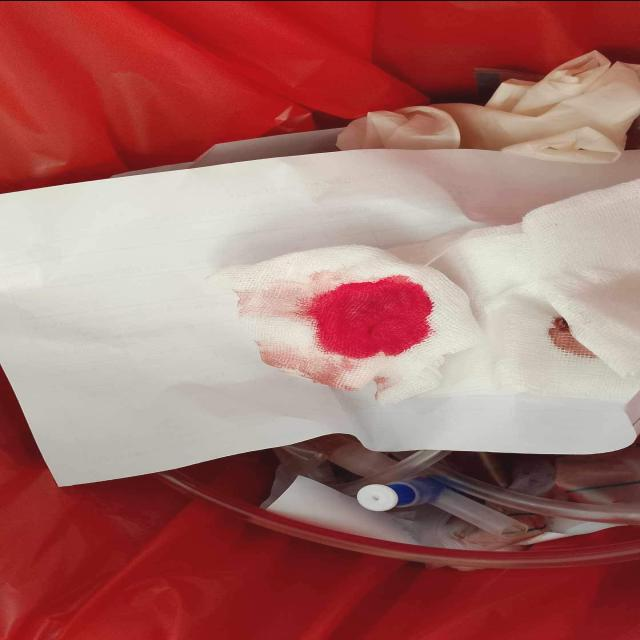General: (149, 431, 637, 570)
Infectious: (203, 242, 487, 404), (334, 49, 638, 162)
Pathological: (2, 142, 637, 487)
Sharps: (355, 474, 535, 538)
